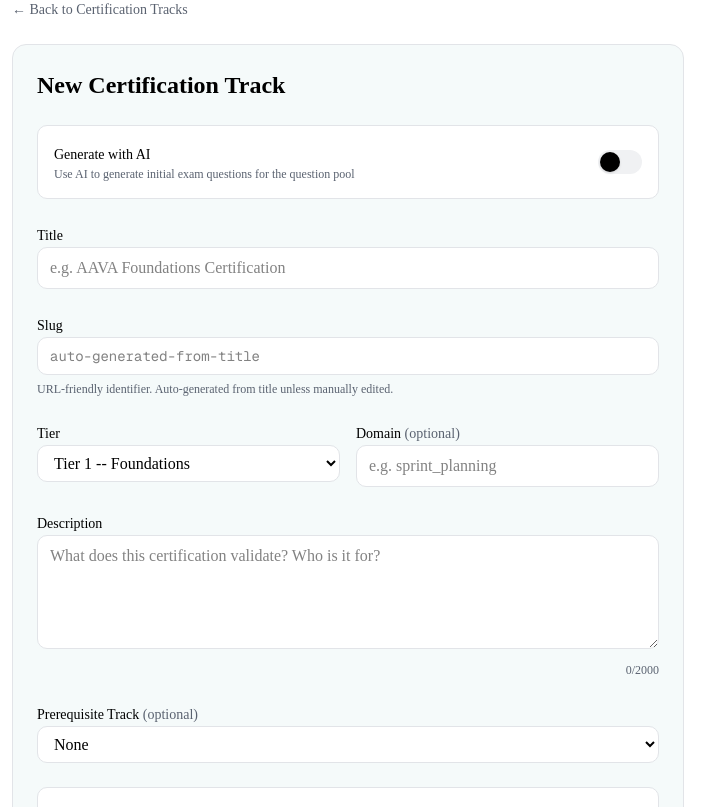
Scenario: NewCertTrackPage › shows "Create Track & Generate Questions" button when AI mode is on
Click the switch with test id "ai-mode-toggle" at [620, 162], box [598,150,642,174]
(page scrolled)
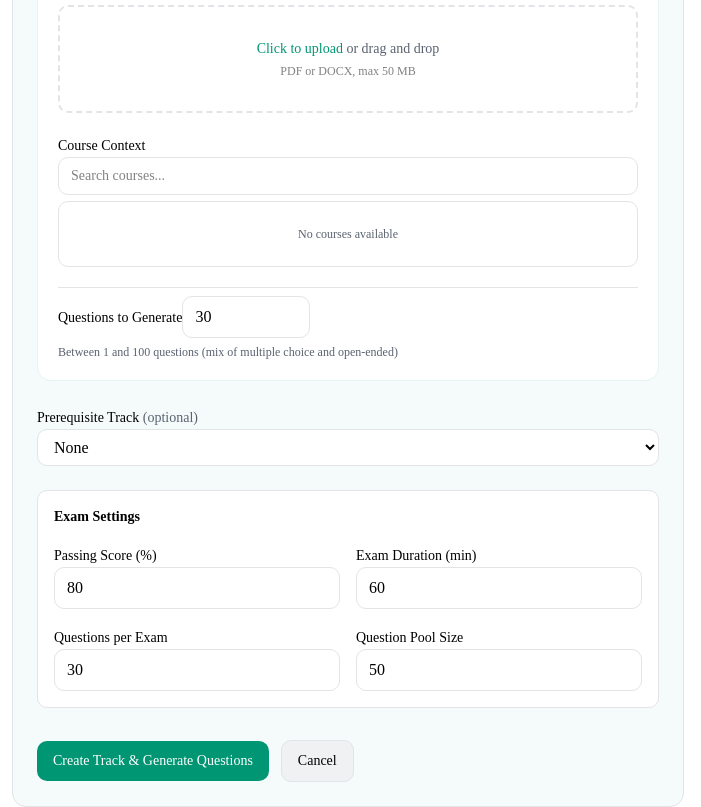
Check: the button "Create Track & Generate Questions" is shown, box [37,741,269,781]
